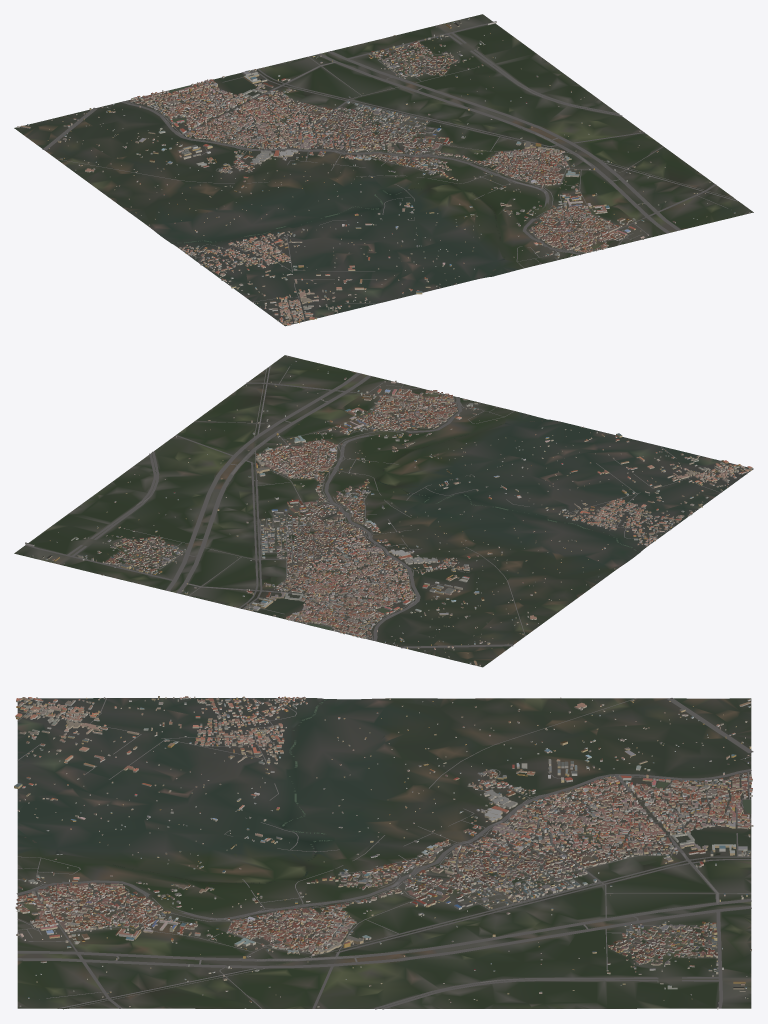
3 views of the same model, one above another, from view 1: azimuth 30°, elevation 25°; view 2: azimuth 150°, elevation 25°; view 3: azimuth 270°, elevation 25° (orthographic). The views are drawn at different scales.
Parts seen in each view (by area): view 1: ground, buildings, roads, water; view 2: ground, buildings, roads, water; view 3: ground, buildings, roads, water.
Boxes of the visible parts, x1,y1,x2,y2 form: ground: (14, 14, 753, 326); buildings: (17, 18, 750, 325); roads: (42, 23, 738, 320); water: (167, 70, 737, 274); ground: (14, 355, 753, 667); buildings: (25, 355, 752, 666); roads: (25, 364, 733, 648); water: (241, 367, 639, 629); ground: (17, 698, 751, 1008); buildings: (14, 696, 753, 1009); roads: (16, 698, 753, 1009); water: (18, 699, 750, 1009).
Bounding box in the file's own units: 2816 × 30.55 × 2828.
